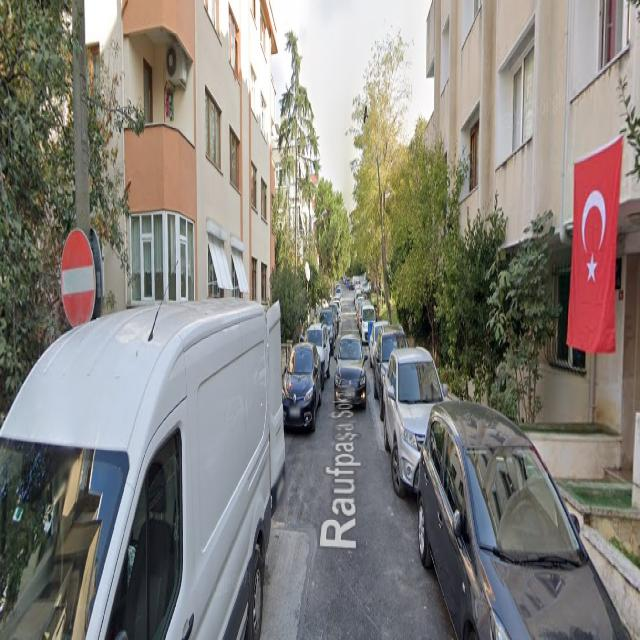girisyok: (60, 228, 95, 332)
